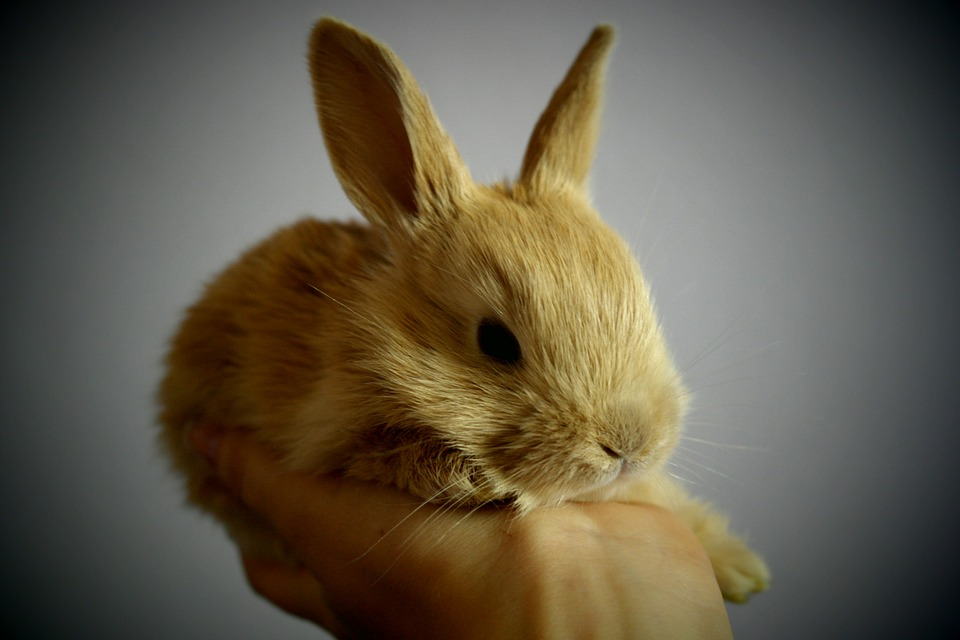bunny: (114, 14, 706, 538)
